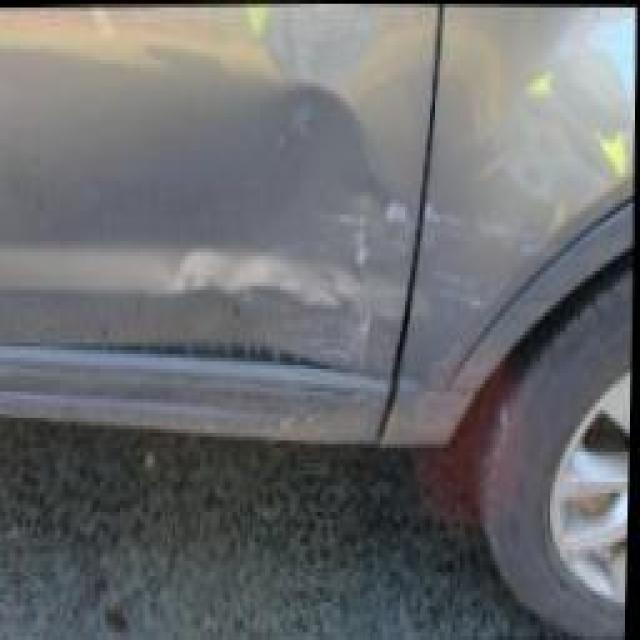Door: (122, 188, 430, 454)
Fender: (405, 4, 640, 440)
